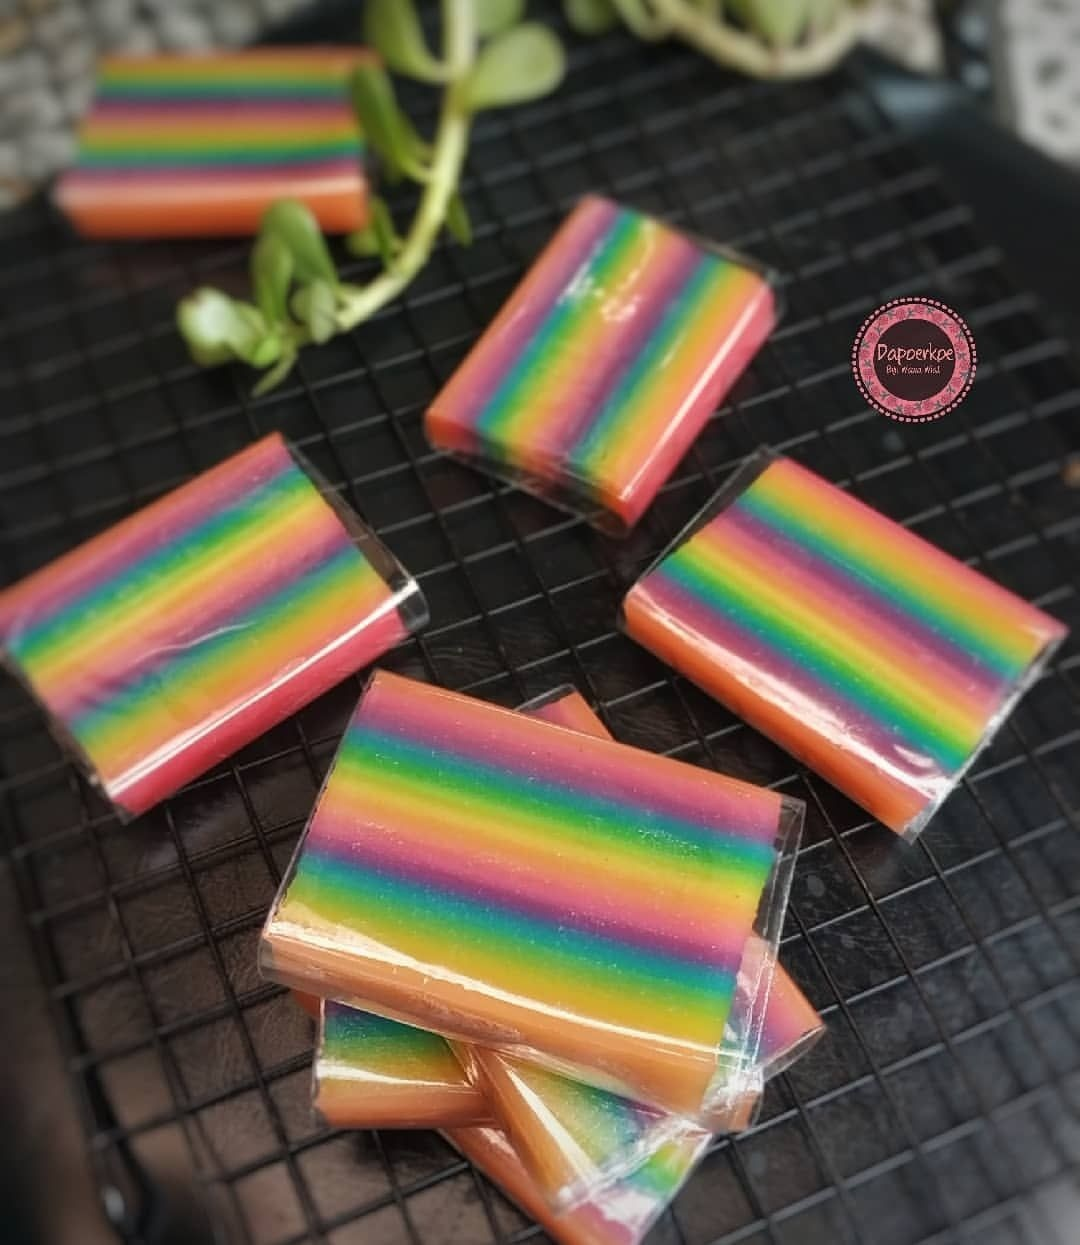kue_lapis_pelangi: (245, 669, 764, 1115), (596, 451, 1062, 836), (1, 431, 406, 820), (424, 193, 770, 522)
